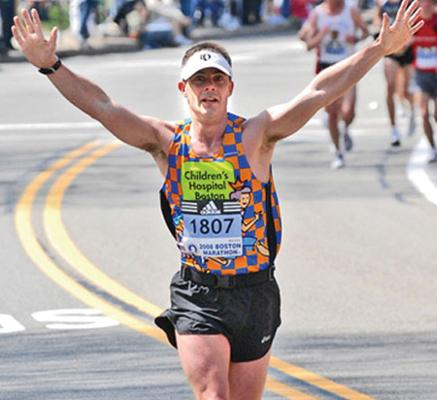person: (11, 2, 425, 399)
